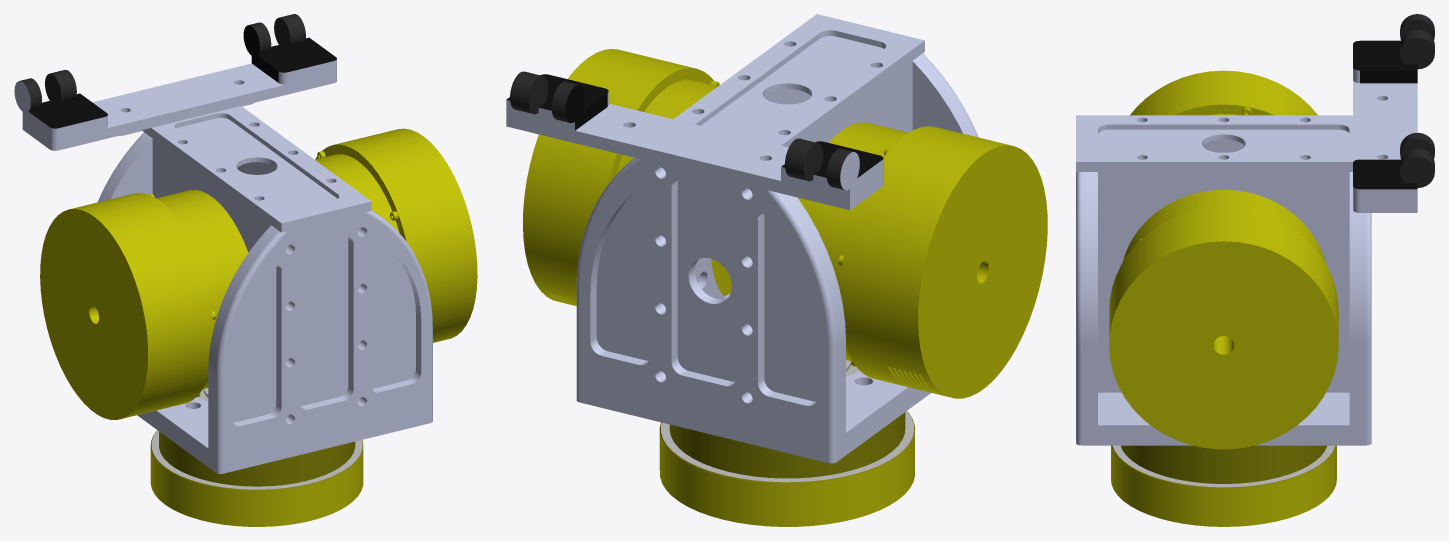
The model's file is bracket.dae.
The picture shows the model from 3 angles, left to right: view 1: azimuth 30°, elevation 25°; view 2: azimuth 150°, elevation 25°; view 3: azimuth 270°, elevation 25°; orthographic projection. The views are drawn at different scales.
Parts seen in each view (by area): view 1: Actor3, Actor8, Actor0, Actor9, Actor7, Actor6, Actor4, Actor5, Actor2; view 2: Actor2, Actor8, Actor0, Actor7, Actor9, Actor6, Actor4, Actor5, Actor3, Actor1; view 3: Actor9, Actor7, Actor1, Actor6, Actor0, Actor4, Actor8, Actor3, Actor2, Actor5.
Part boxes in pixels (left/top/right/bottom): Actor3: left=208, top=210, right=432, bottom=455; Actor8: left=40, top=190, right=248, bottom=419; Actor0: left=14, top=14, right=336, bottom=150; Actor9: left=315, top=128, right=477, bottom=342; Actor7: left=150, top=388, right=363, bottom=526; Actor6: left=119, top=102, right=371, bottom=232; Actor4: left=137, top=397, right=432, bottom=473; Actor5: left=152, top=139, right=270, bottom=252; Actor2: left=98, top=132, right=152, bottom=202; Actor2: left=576, top=158, right=845, bottom=440; Actor8: left=798, top=122, right=1047, bottom=398; Actor0: left=506, top=71, right=883, bottom=210; Actor7: left=659, top=360, right=914, bottom=526; Actor9: left=523, top=49, right=731, bottom=305; Actor6: left=673, top=14, right=924, bottom=147; Actor4: left=576, top=370, right=930, bottom=463; Actor5: left=805, top=61, right=912, bottom=142; Actor3: left=912, top=53, right=978, bottom=137; Actor1: left=695, top=89, right=811, bottom=299; Actor9: left=1109, top=190, right=1338, bottom=449; Actor7: left=1111, top=445, right=1336, bottom=526; Actor1: left=1098, top=172, right=1349, bottom=392; Actor6: left=1076, top=115, right=1352, bottom=171; Actor0: left=1353, top=14, right=1434, bottom=212; Actor4: left=1076, top=392, right=1371, bottom=445; Actor8: left=1130, top=70, right=1317, bottom=115; Actor3: left=1076, top=172, right=1097, bottom=425; Actor2: left=1349, top=172, right=1371, bottom=425; Actor5: left=1203, top=139, right=1244, bottom=152.
Bounding box in the file's own units: 0.2322 × 0.248 × 0.2063.
